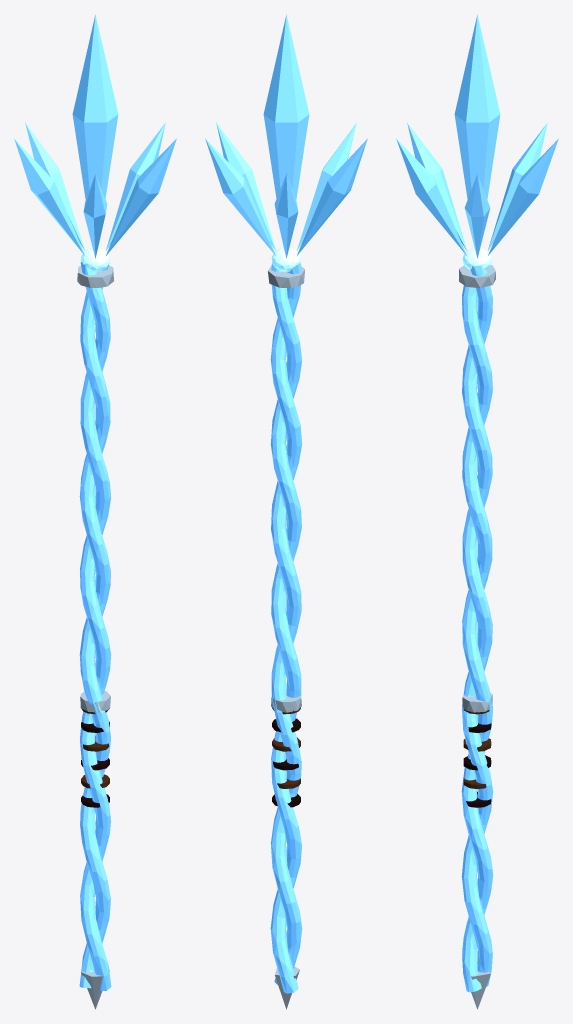
Rendered from spear_5.glb.
3 renders of one model, left to right at view 1: azimuth 30°, elevation 25°; view 2: azimuth 150°, elevation 25°; view 3: azimuth 270°, elevation 25°, orthographic.
Visible parts, largest first — view 1: part_02, part_01, part_12, part_14, part_16, part_13, part_15, part_17, part_10, part_19, part_09, part_11; view 2: part_01, part_02, part_12, part_18, part_16, part_13, part_17, part_15, part_10, part_19, part_11; view 3: part_02, part_01, part_12, part_14, part_18, part_15, part_17, part_13, part_10, part_19, part_11.
Part boxes in pixels (x1,y1,x2,y2): part_02: [80, 262, 111, 990]; part_01: [79, 265, 110, 988]; part_12: [72, 14, 118, 199]; part_14: [106, 138, 176, 255]; part_16: [14, 138, 84, 255]; part_13: [106, 122, 165, 250]; part_15: [83, 174, 107, 258]; part_17: [25, 122, 84, 250]; part_10: [77, 265, 113, 287]; part_19: [80, 247, 110, 271]; part_09: [81, 970, 109, 1009]; part_11: [80, 691, 110, 712]; part_01: [270, 262, 302, 993]; part_02: [270, 262, 302, 984]; part_12: [263, 14, 309, 199]; part_18: [205, 138, 275, 255]; part_16: [297, 138, 367, 255]; part_13: [216, 122, 275, 250]; part_17: [274, 174, 298, 258]; part_15: [297, 122, 356, 250]; part_10: [268, 266, 304, 287]; part_19: [271, 247, 301, 271]; part_11: [271, 690, 301, 712]; part_02: [461, 285, 493, 992]; part_01: [461, 265, 493, 986]; part_12: [454, 14, 500, 198]; part_14: [396, 138, 466, 255]; part_18: [488, 138, 558, 255]; part_15: [407, 122, 466, 250]; part_17: [488, 122, 547, 250]; part_13: [464, 174, 490, 258]; part_10: [459, 265, 495, 288]; part_19: [462, 248, 492, 270]; part_11: [462, 693, 492, 712].
Size of the model in its own units: 0.306 by 1.92 by 0.2842.
